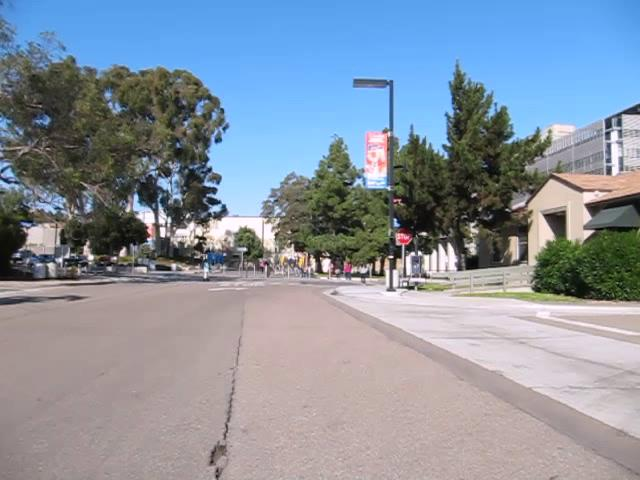stop: (394, 225, 413, 244)
